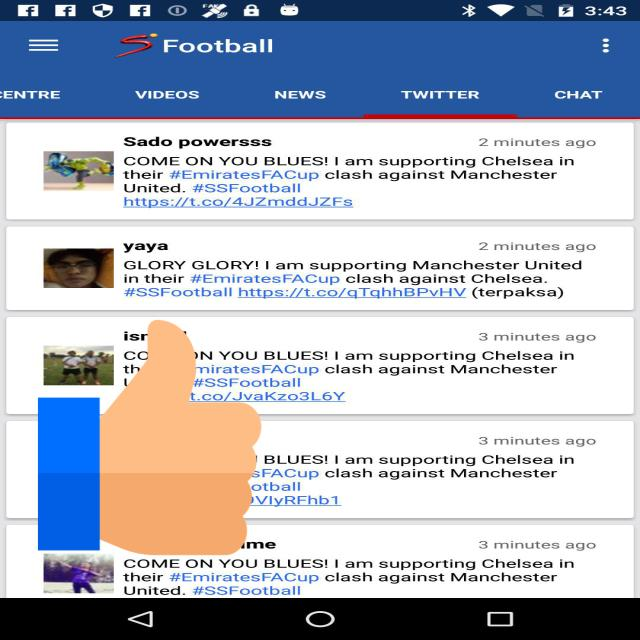privacy zuckering: (38, 314, 261, 561)
